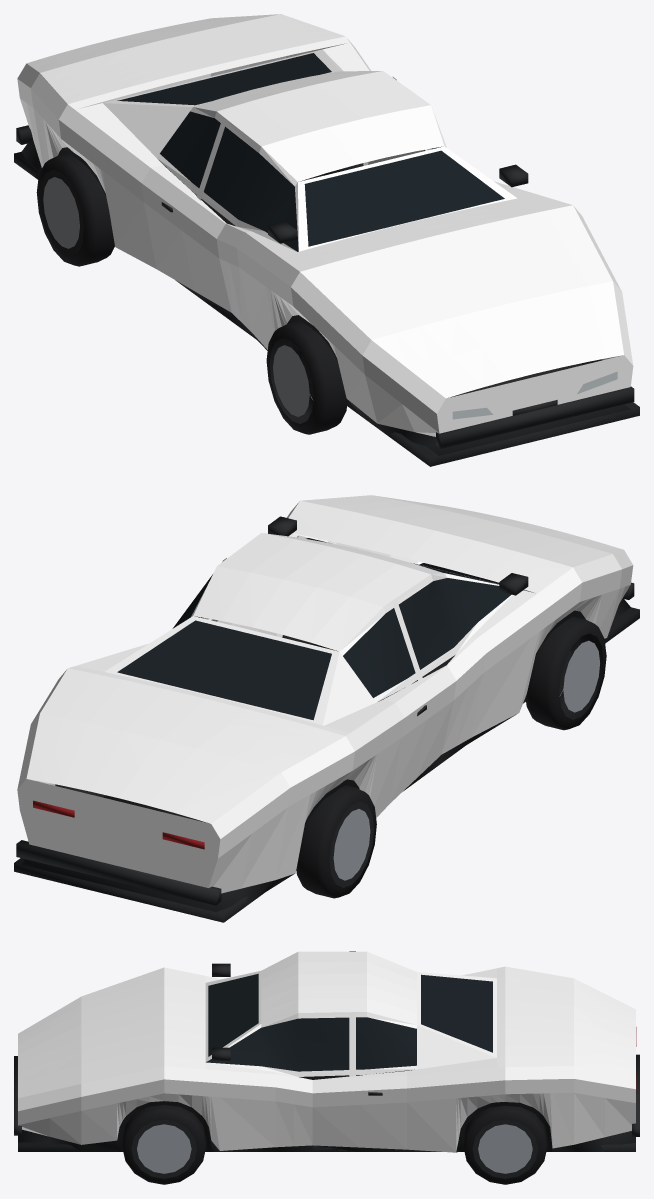
File: kanaya_flecha.glb
The picture shows the model from 3 angles, top to bottom: view 1: azimuth 30°, elevation 25°; view 2: azimuth 150°, elevation 25°; view 3: azimuth 270°, elevation 25°; orthographic projection. The views are drawn at different scales.
Parts seen in each view (by area): view 1: Body_Paint, Body_Details, Mount_FrontLeft_Wheel_Details, Mount_RearLeft_Wheel_Details; view 2: Body_Paint, Body_Details, Mount_FrontLeft_Wheel_Details, Mount_RearLeft_Wheel_Details; view 3: Body_Paint, Body_Details, Mount_FrontRight_Wheel_Details, Mount_RearRight_Wheel_Details.
Part boxes in pixels (left/top/right/bottom): Body_Paint: left=17, top=14, right=633, bottom=436; Body_Details: left=14, top=53, right=639, bottom=466; Mount_FrontLeft_Wheel_Details: left=266, top=321, right=347, bottom=434; Mount_RearLeft_Wheel_Details: left=36, top=153, right=114, bottom=266; Body_Paint: left=17, top=495, right=633, bottom=893; Body_Details: left=14, top=516, right=639, bottom=922; Mount_FrontLeft_Wheel_Details: left=525, top=616, right=606, bottom=730; Mount_RearLeft_Wheel_Details: left=296, top=785, right=376, bottom=898; Body_Paint: left=18, top=951, right=635, bottom=1152; Body_Details: left=14, top=963, right=639, bottom=1152; Mount_FrontRight_Wheel_Details: left=122, top=1105, right=206, bottom=1184; Mount_RearRight_Wheel_Details: left=463, top=1105, right=547, bottom=1184.
Bounding box in the file's own units: 1.78 × 1.2 × 4.39.
Materials: 2 (1 with a texture image).
